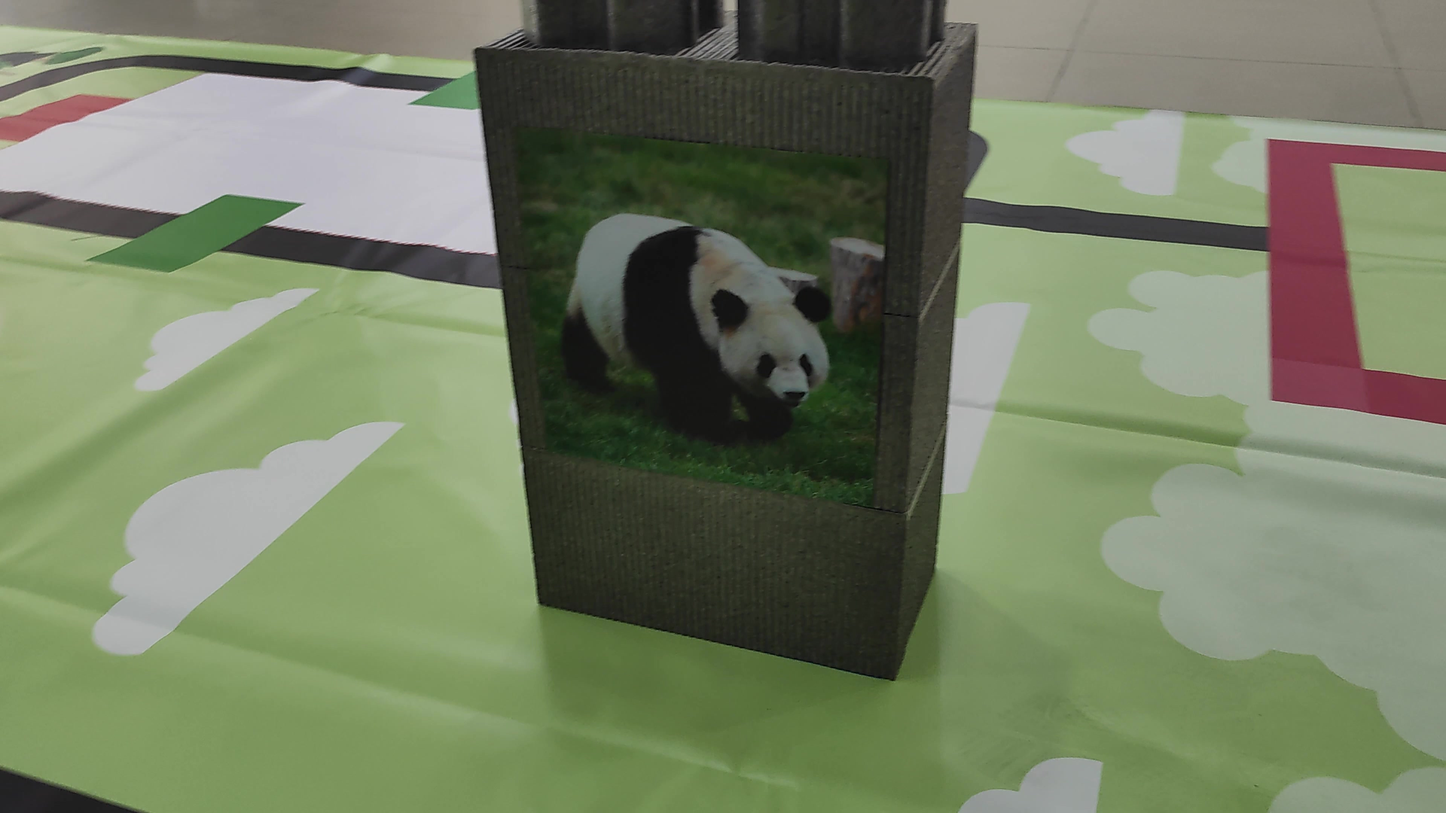panda: (560, 198, 837, 506)
